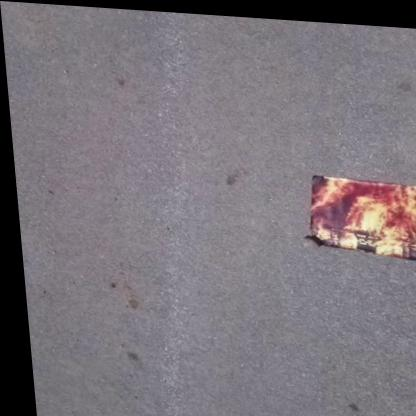fire-poster: (294, 167, 416, 258)
